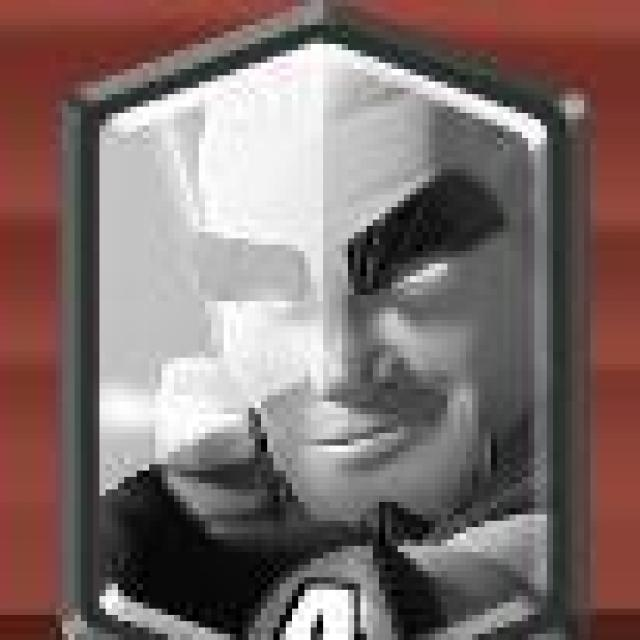Magic_Archer: (70, 12, 563, 640)
